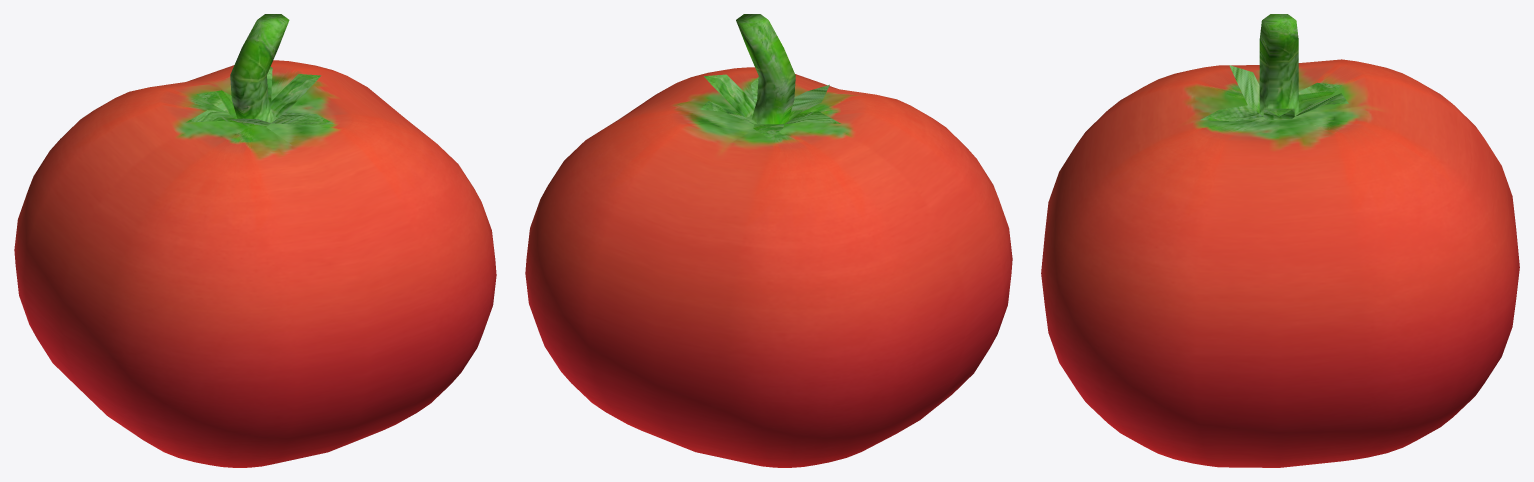
The model's file is Tomato.glb.
The picture shows the model from 3 angles, left to right: view 1: azimuth 30°, elevation 25°; view 2: azimuth 150°, elevation 25°; view 3: azimuth 270°, elevation 25°; orthographic projection. The views are drawn at different scales.
Visible parts, largest first — view 1: Sphere; view 2: Sphere; view 3: Sphere.
Part boxes in pixels (x1,y1,x2,y2): Sphere: (14, 14, 496, 467); Sphere: (525, 14, 1012, 467); Sphere: (1041, 14, 1519, 467).
Bounding box in the file's own units: 0.1008 × 0.0992 × 0.101.
1 material, 1 textured.
